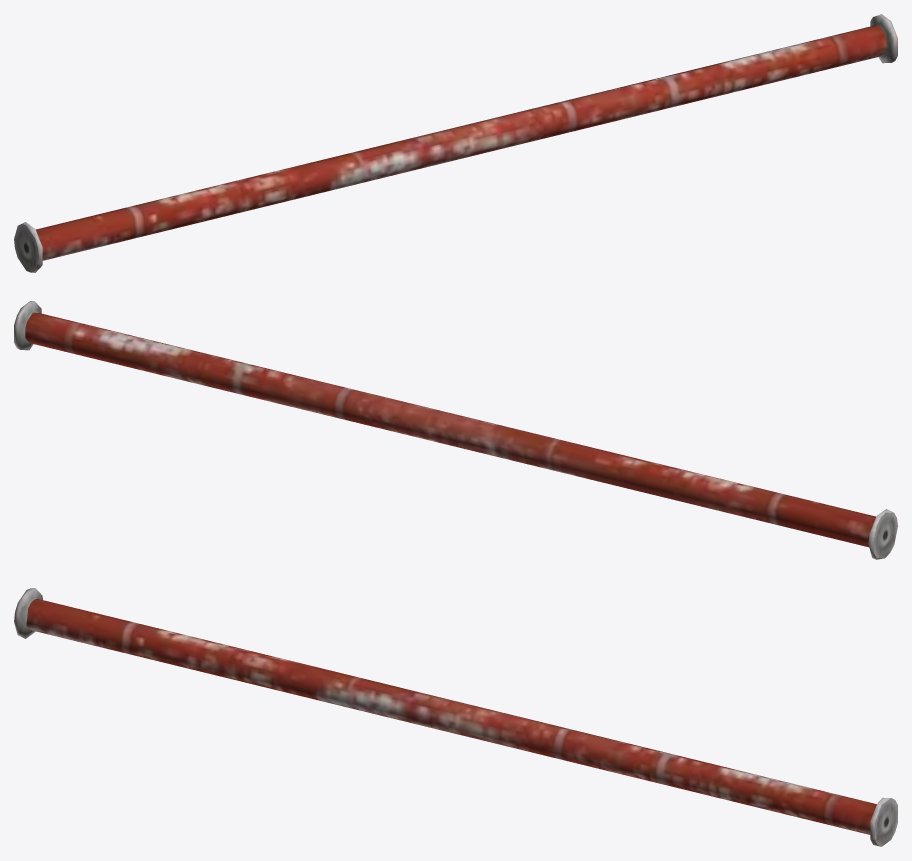
Rendered from pipe_d_300_b.glb.
3 renders of one model, top to bottom at view 1: azimuth 30°, elevation 25°; view 2: azimuth 150°, elevation 25°; view 3: azimuth 330°, elevation 25°, orthographic.
Parts seen in each view (by area): view 1: pipe_d_300_b; view 2: pipe_d_300_b; view 3: pipe_d_300_b.
Boxes of the visible parts, x1,y1,x2,y2 form: pipe_d_300_b: (14,14,897,272); pipe_d_300_b: (14,301,897,559); pipe_d_300_b: (14,588,897,846).
Size of the model in its own units: 3 by 0.1578 by 0.1544.
Materials: 1 (1 with a texture image).
